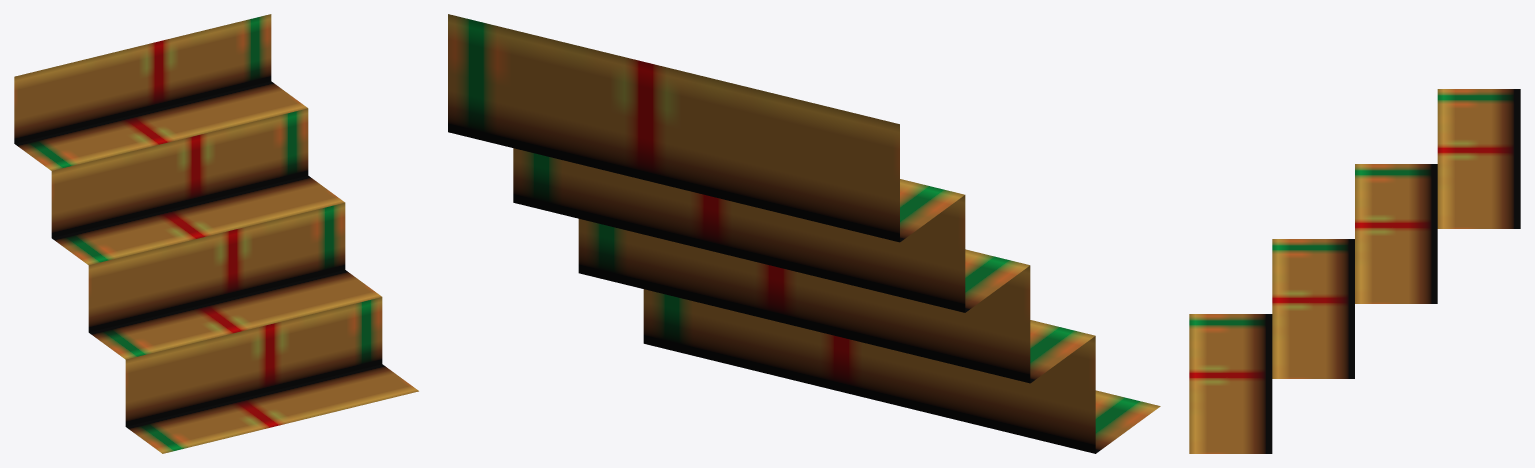
Rendered from arch_cathedral_stairs_noWalls.FBX.
The picture shows the model from 3 angles, left to right: view 1: azimuth 30°, elevation 25°; view 2: azimuth 150°, elevation 25°; view 3: azimuth 270°, elevation 25°; orthographic projection. The views are drawn at different scales.
Visible parts, largest first — view 1: arch_cathedral_stairs_noWalls; view 2: arch_cathedral_stairs_noWalls; view 3: arch_cathedral_stairs_noWalls.
Part boxes in pixels (bbox=[...]): arch_cathedral_stairs_noWalls: bbox=[14, 14, 418, 453]; arch_cathedral_stairs_noWalls: bbox=[448, 14, 1160, 453]; arch_cathedral_stairs_noWalls: bbox=[1189, 89, 1520, 453].
Bounding box in the file's own units: 2 × 2 × 2.
Materials: 1 (1 with a texture image).
